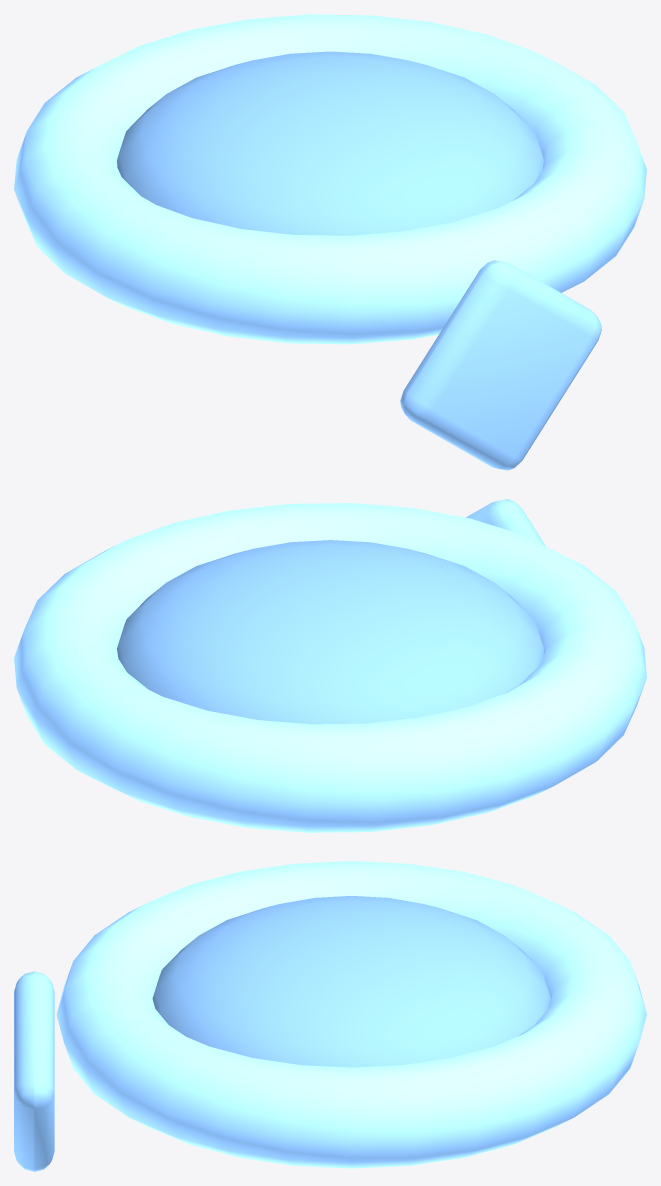
File: google.glb
3 views of the same model, one above another, from view 1: azimuth 30°, elevation 25°; view 2: azimuth 150°, elevation 25°; view 3: azimuth 270°, elevation 25° (orthographic). The views are drawn at different scales.
Visible parts, largest first — view 1: Torus, Sphere, Cube; view 2: Torus, Sphere, Cube; view 3: Torus, Sphere, Cube.
Part boxes in pixels (left/top/right/bottom): Torus: left=14, top=14, right=646, bottom=344; Sphere: left=117, top=51, right=543, bottom=235; Cube: left=400, top=260, right=601, bottom=470; Torus: left=14, top=503, right=646, bottom=832; Sphere: left=117, top=540, right=543, bottom=724; Cube: left=466, top=499, right=545, bottom=546; Torus: left=56, top=861, right=646, bottom=1168; Sphere: left=152, top=896, right=550, bottom=1067; Cube: left=14, top=971, right=54, bottom=1171.
Bounding box in the file's own units: 1.6 × 0.7011 × 1.72.
